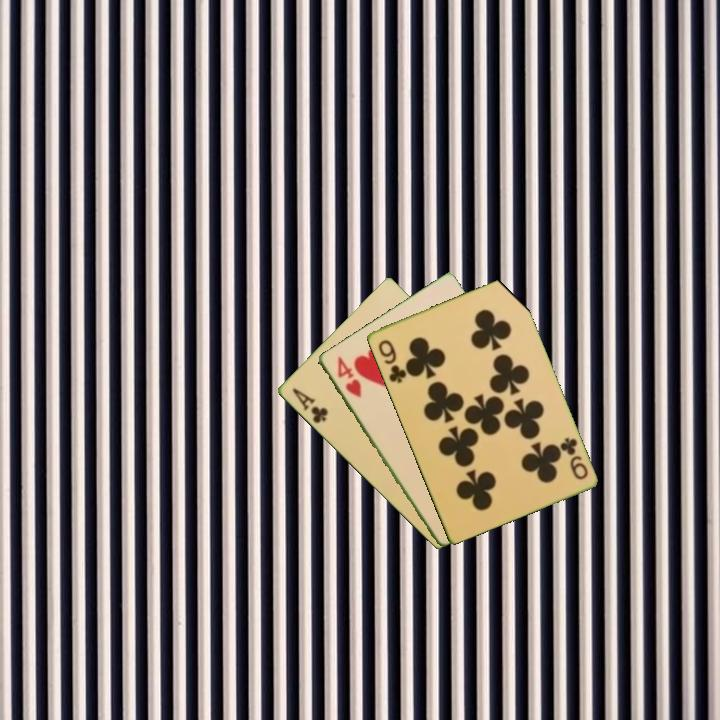4h: (333, 353, 364, 401)
9c: (374, 336, 409, 386), (556, 433, 590, 483)
Ac: (288, 384, 331, 426)
